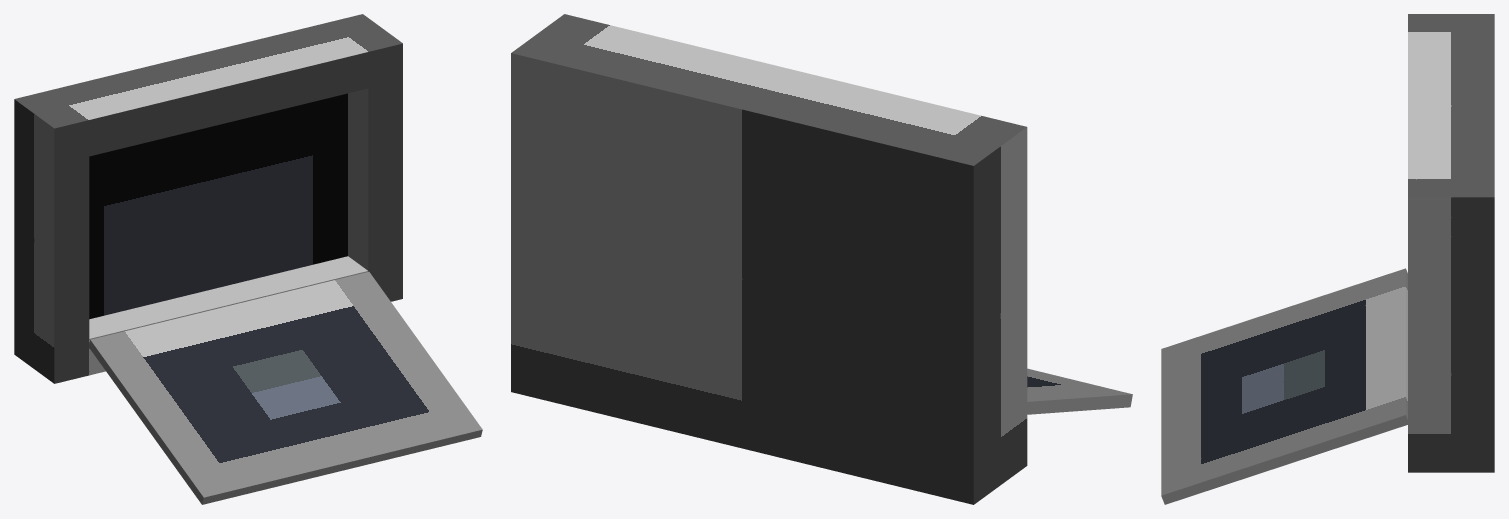
Rendered from door_button_assembly.glb.
3 views of the same model, side by side, from view 1: azimuth 30°, elevation 25°; view 2: azimuth 150°, elevation 25°; view 3: azimuth 270°, elevation 25° (orthographic). The views are drawn at different scales.
Visible parts, largest first — view 1: Continuous_Housing, Service_Cover; view 2: Continuous_Housing, Service_Cover; view 3: Continuous_Housing, Service_Cover.
Boxes of the visible parts, x1,y1,x2,y2 form: Continuous_Housing: [14, 14, 402, 383]; Service_Cover: [89, 272, 482, 504]; Continuous_Housing: [511, 14, 1027, 504]; Service_Cover: [1027, 368, 1132, 414]; Continuous_Housing: [1408, 14, 1494, 472]; Service_Cover: [1161, 268, 1407, 504].
Bounding box in the file's own units: 0.2812 × 0.2331 × 0.2162.
Materials: 1 (1 with a texture image).
